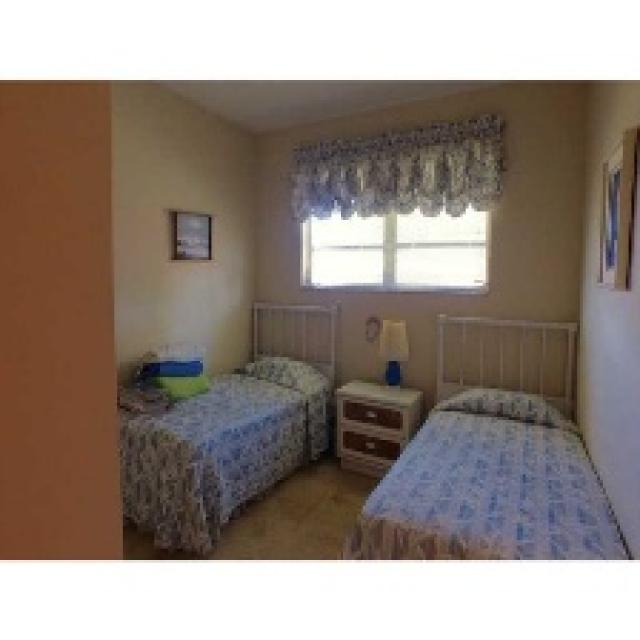Bed: (340, 311, 631, 560), (117, 300, 337, 554)
